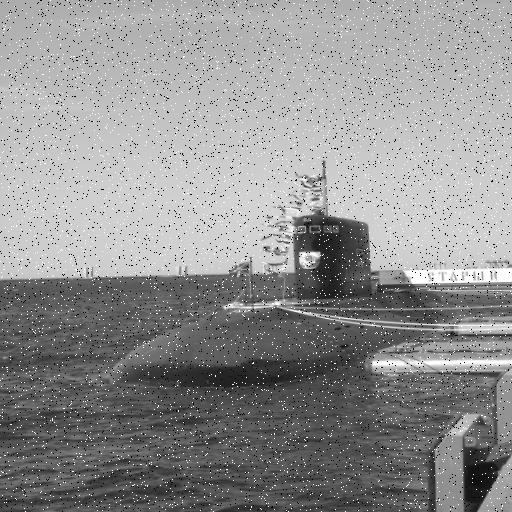submarine: (112, 164, 453, 386)
